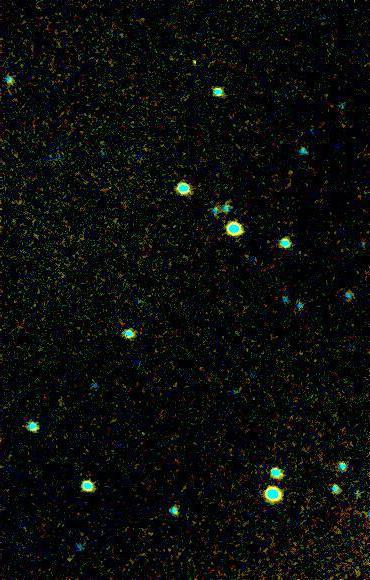star: (181, 49, 211, 79)
